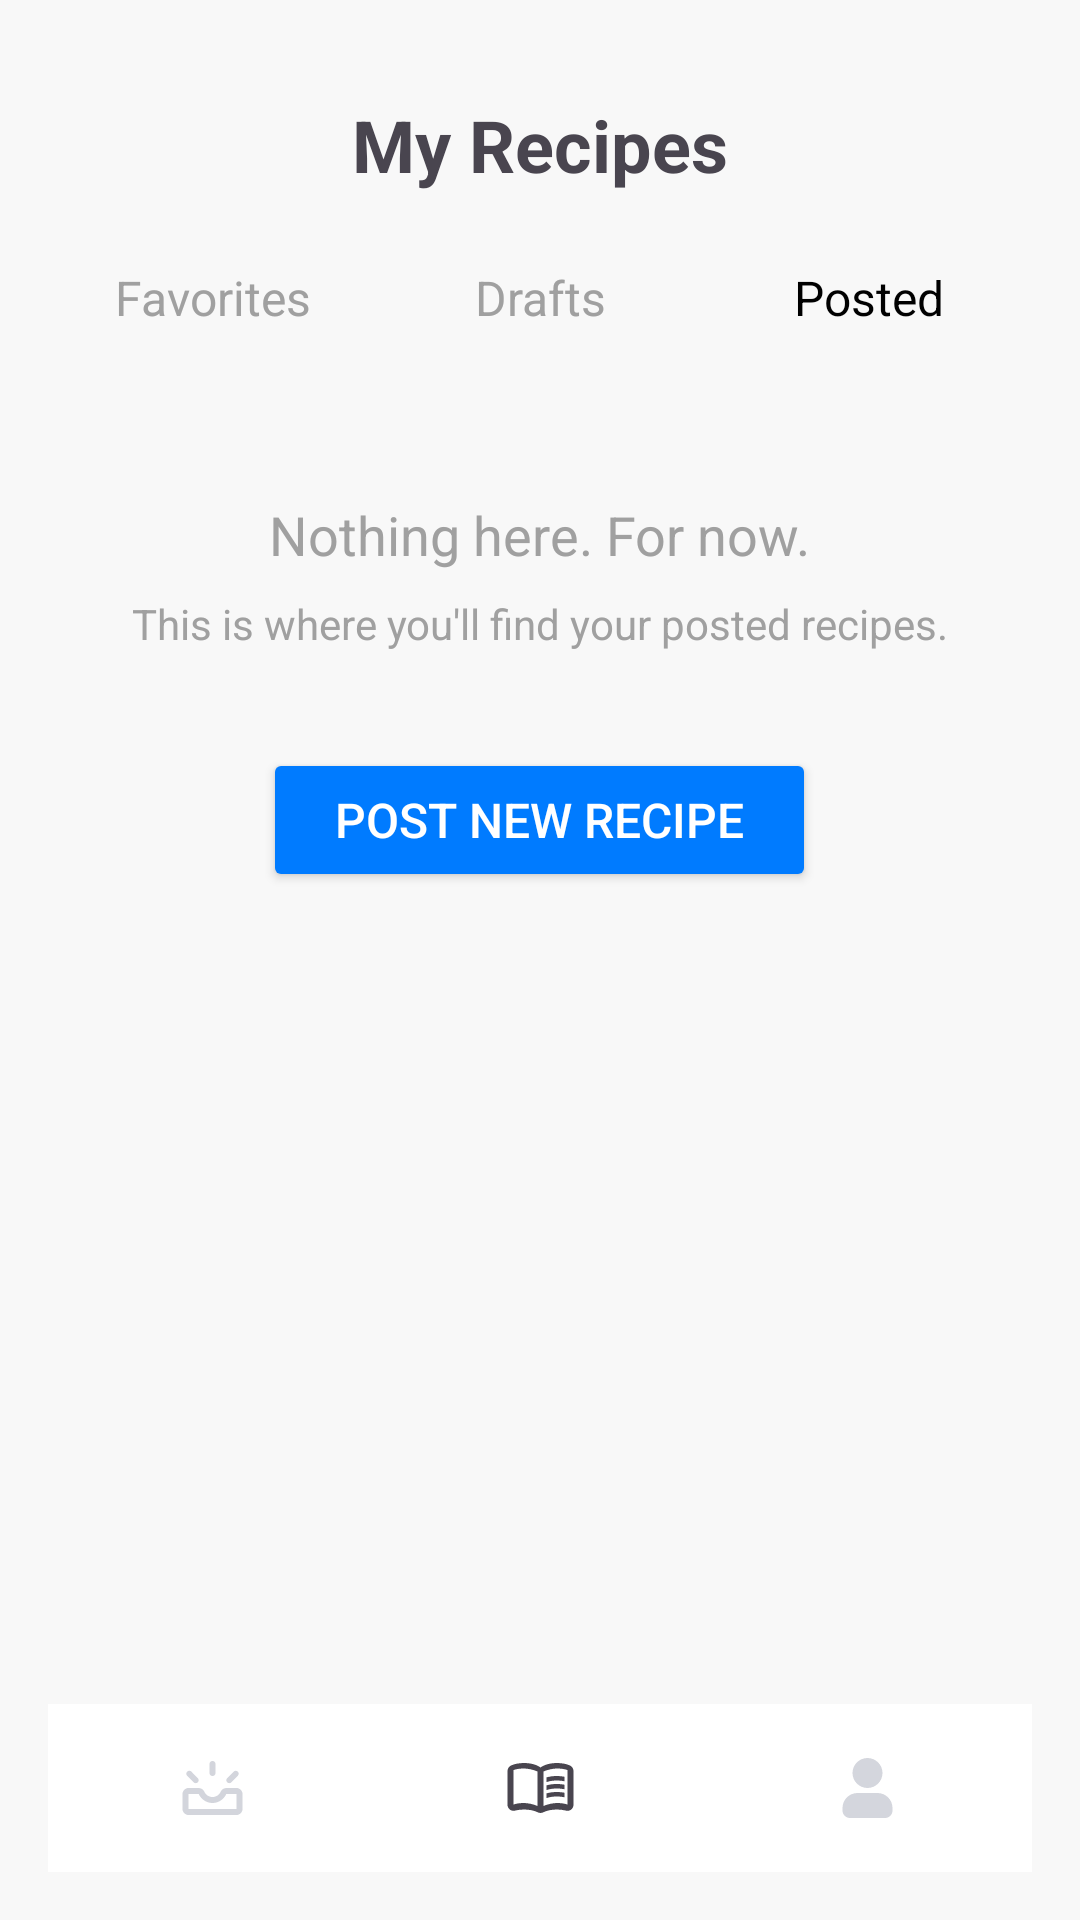

Where to tap for icons on this 1080 x 1920 app screen, as point (x, y):
book border: point (540, 1788)
profile: point (867, 1788)
